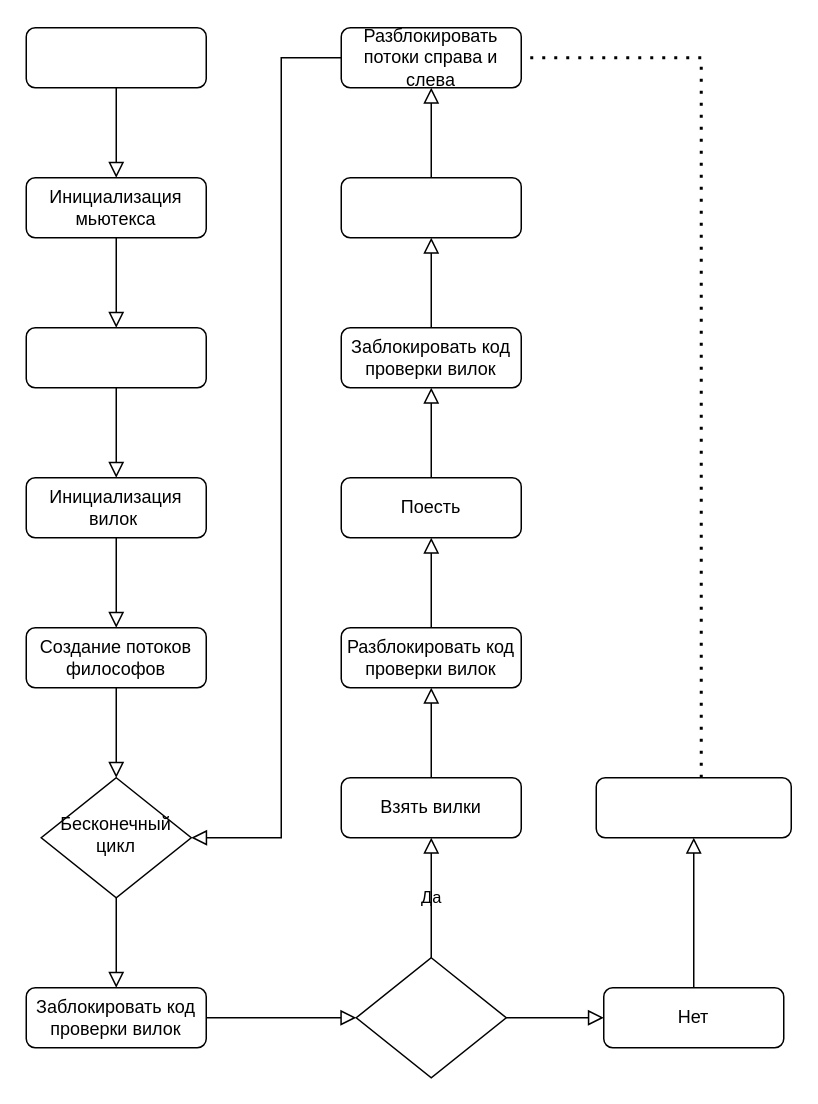
Image size: 818x1104. Some labels were removed from this diagram. The shapes that lost their labels are listed below. From the top down, each one's centre as x and y in pixels, then its label:
point 115,57: Начало программы
point 430,207: Положить вилки
point 115,357: Инициализация номеров философов
point 693,807: Заблокироваться и ждать разблокировки другим потоком
point 430,1017: Свободны ли вилки?
